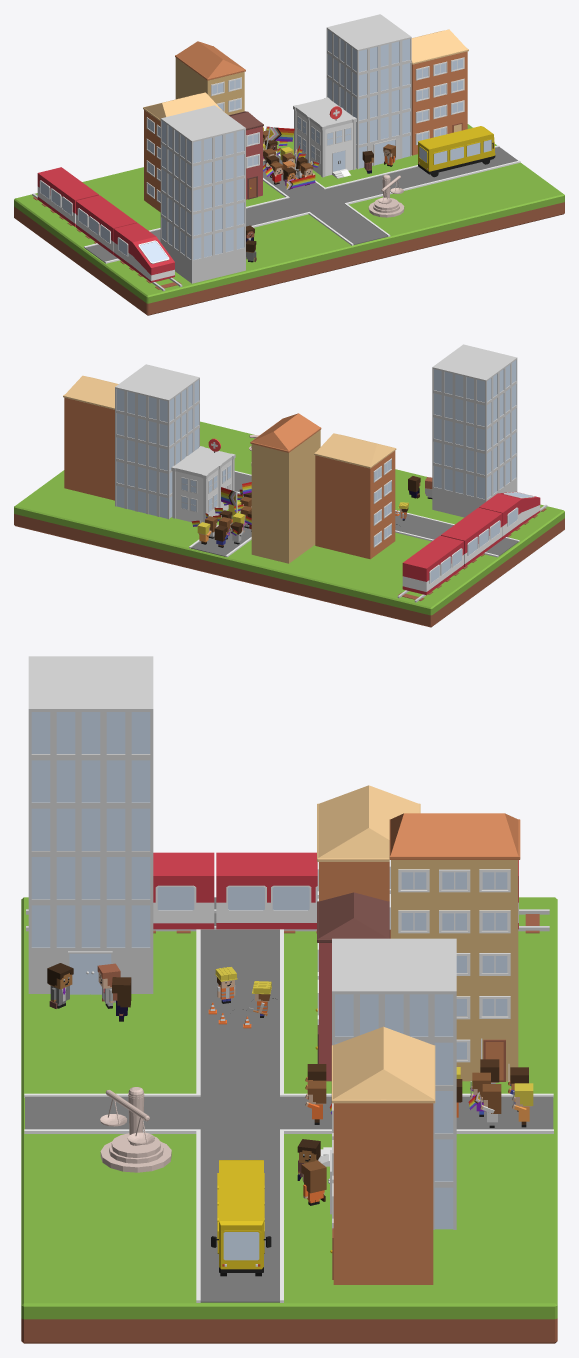
File: ground8.glb
3 views of the same model, one above another, from view 1: azimuth 30°, elevation 25°; view 2: azimuth 150°, elevation 25°; view 3: azimuth 270°, elevation 25° (orthographic). The views are drawn at different scales.
Visible parts, largest first — view 1: Cube, Migranten, Löhne, Haus, Straße, Zug, Haus2, Arzt, Bus, Parade, Waage; view 2: Cube, Haus, Migranten, Löhne, Zug, Haus2, Arzt, Straße, Parade; view 3: Cube, Migranten, Haus, Straße, Haus2, Löhne, Zug, Bus, Parade, Waage, Bauarbeiter.
Part boxes in pixels (x1,y1,x2,y2): Cube: [14, 124, 564, 315]; Migranten: [160, 105, 256, 283]; Löhne: [326, 14, 411, 173]; Haus: [143, 41, 263, 212]; Straße: [84, 145, 520, 263]; Zug: [32, 167, 182, 291]; Haus2: [411, 29, 468, 155]; Arzt: [293, 97, 356, 178]; Bus: [418, 126, 495, 177]; Parade: [263, 126, 318, 189]; Waage: [368, 174, 404, 217]; Cube: [14, 421, 564, 627]; Haus: [250, 413, 396, 563]; Migranten: [408, 344, 517, 517]; Löhne: [115, 364, 199, 519]; Zug: [397, 491, 547, 602]; Haus2: [63, 375, 118, 500]; Arzt: [171, 438, 235, 522]; Straße: [189, 471, 519, 557]; Parade: [191, 482, 251, 547]; Cube: [21, 897, 557, 1343]; Migranten: [28, 656, 153, 1021]; Haus: [315, 785, 520, 1081]; Straße: [24, 897, 553, 1302]; Haus2: [330, 1026, 435, 1284]; Löhne: [297, 938, 456, 1229]; Zug: [26, 852, 549, 933]; Bus: [211, 1160, 271, 1276]; Parade: [305, 1038, 533, 1127]; Waage: [100, 1087, 171, 1172]; Bauarbeiter: [208, 967, 275, 1028].
Size of the model in its own units: 3.6 by 1.34 by 2.
